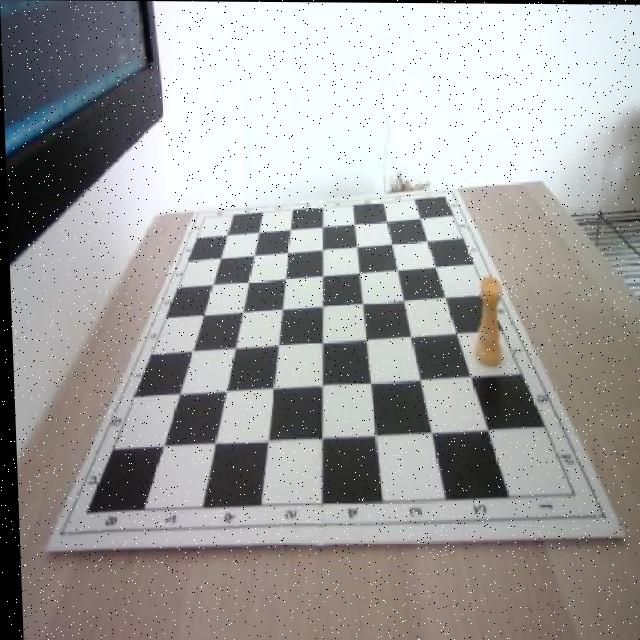white-queen: (469, 277, 503, 367)
